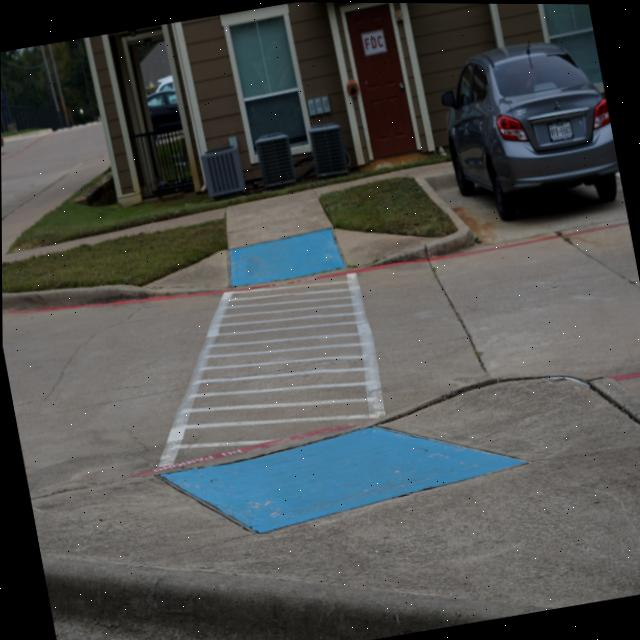Automobile: (447, 46, 617, 196)
Obstacle: (199, 136, 245, 197), (254, 131, 296, 187), (309, 122, 349, 177)
Road: (2, 182, 640, 495), (48, 602, 346, 640), (1, 122, 104, 210)
Sidewalk: (30, 379, 640, 635), (1, 156, 448, 289)
